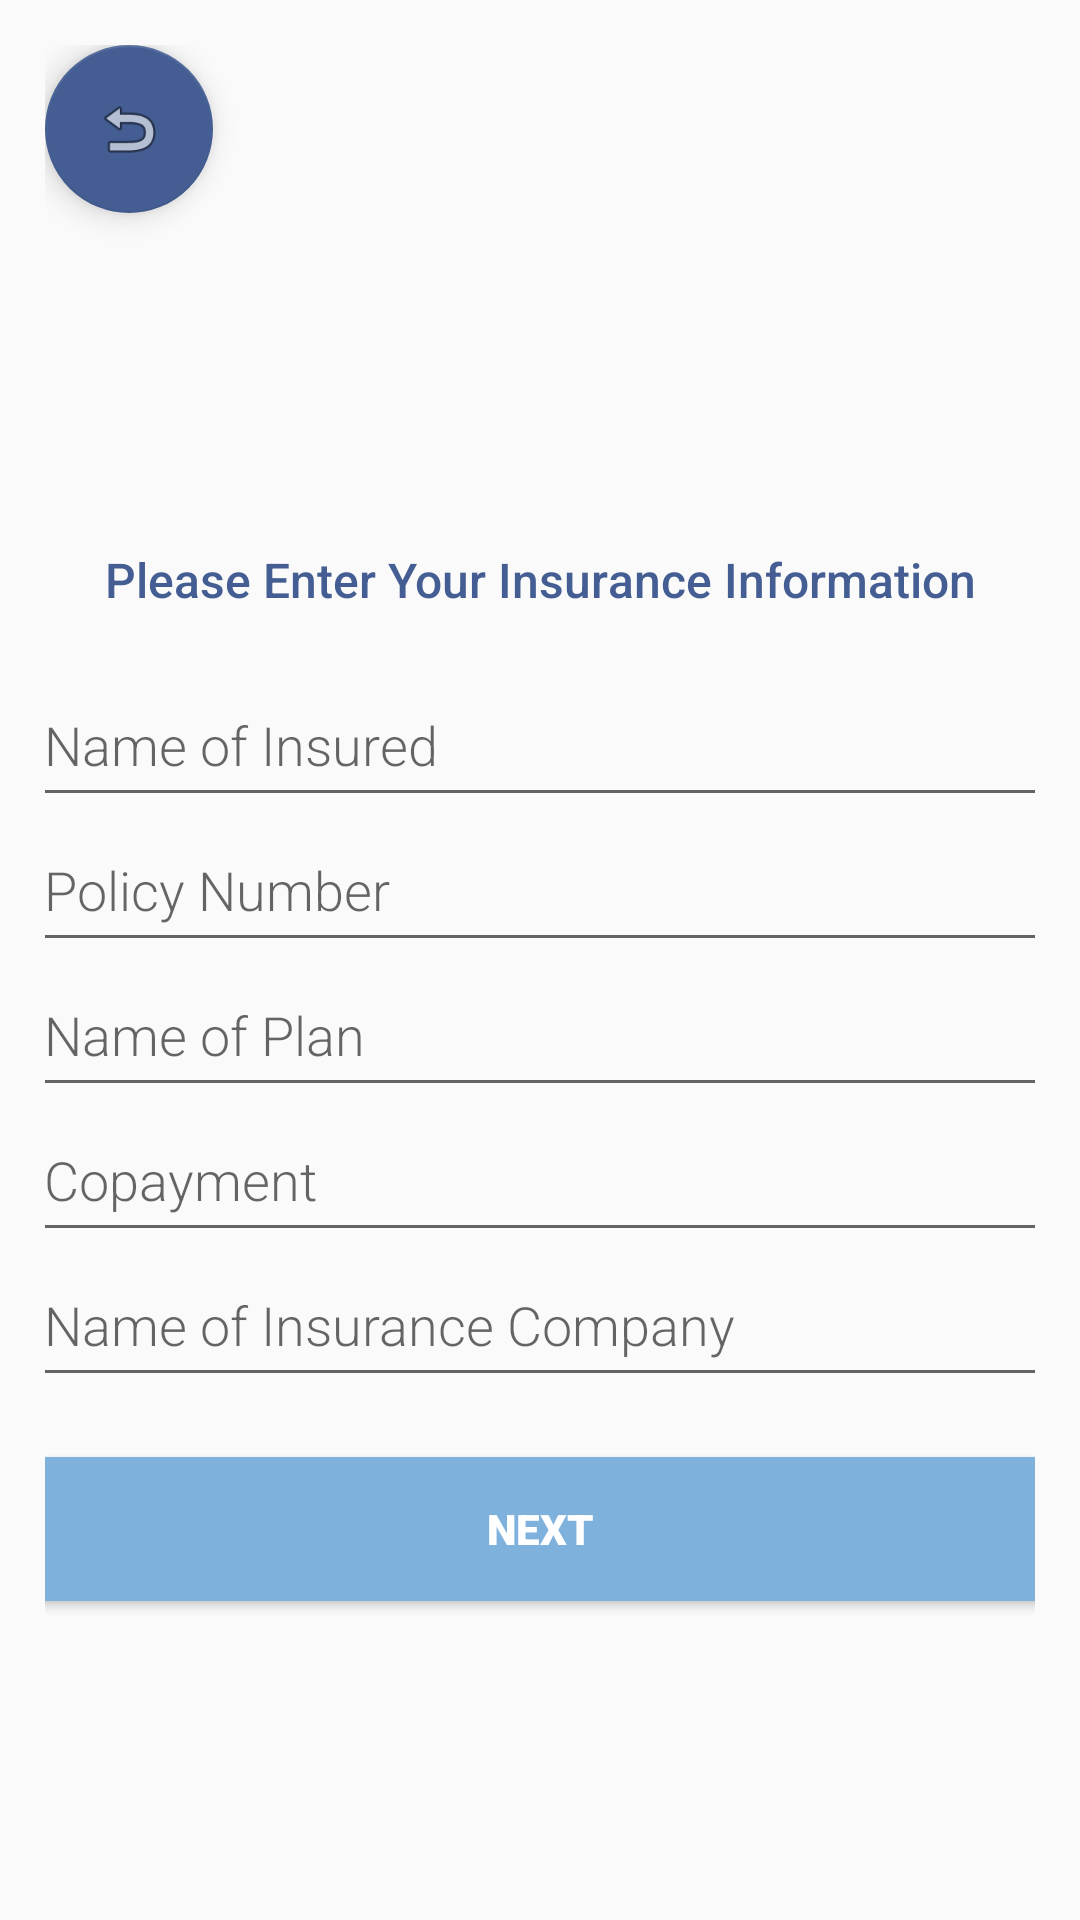

Point at icon controls on the screen. Image size 1080 x 1920, points as point (x, y).
revert: point (129, 129)
